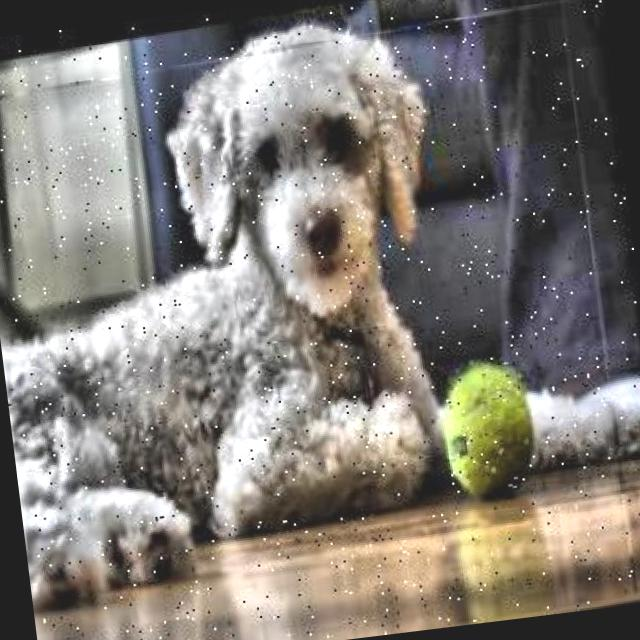Tennis Ball: (436, 349, 544, 504)
